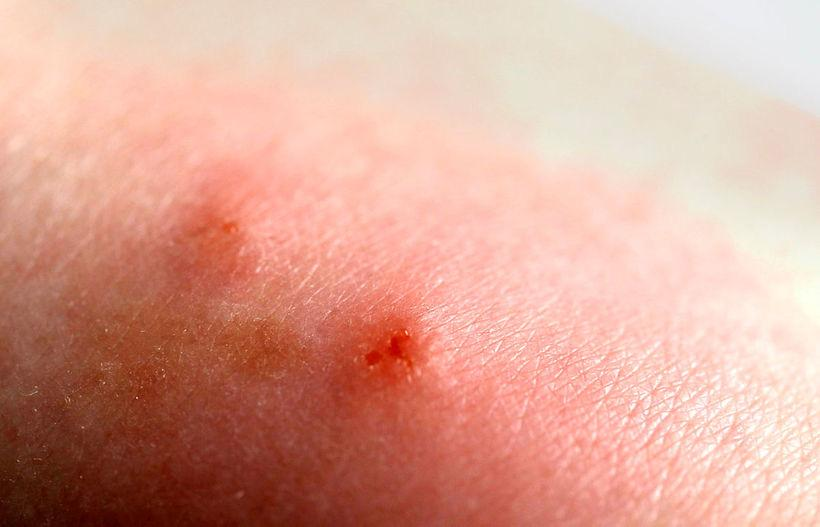Midges: (147, 159, 278, 288), (325, 293, 454, 403)
